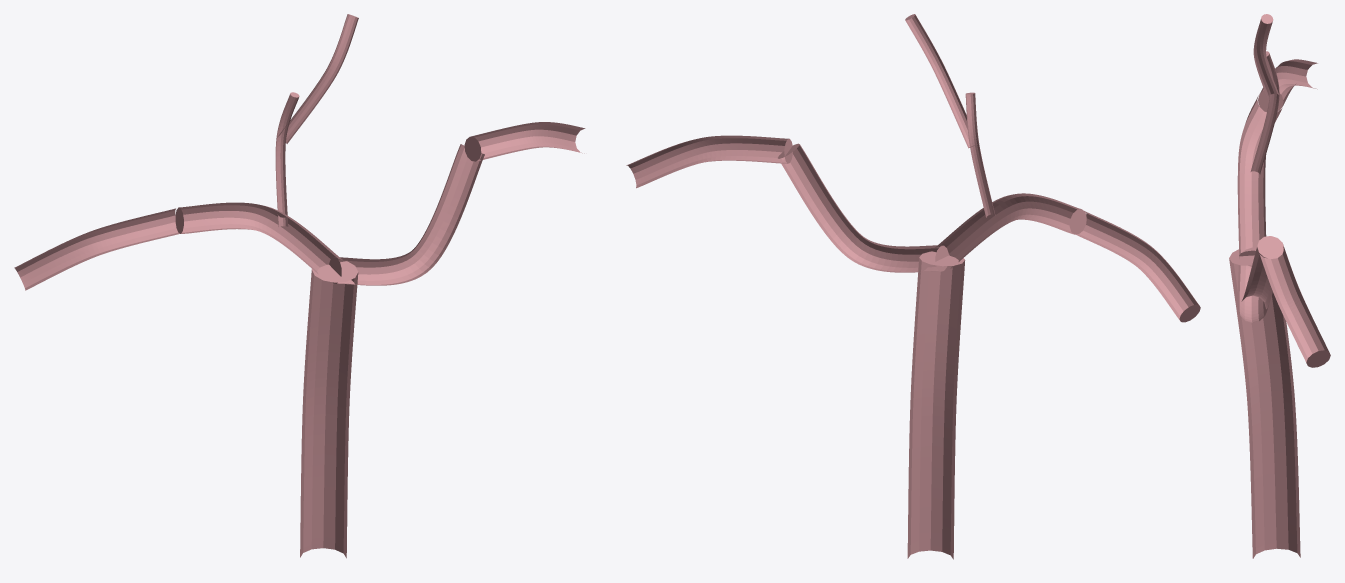
Rendered from basilar_assim.glb.
3 renders of one model, left to right at view 1: azimuth 30°, elevation 25°; view 2: azimuth 150°, elevation 25°; view 3: azimuth 270°, elevation 25°, orthographic. The views are drawn at different scales.
Visible parts, largest first — view 1: Basilar distal, P1 D — fusão assimétrica caudal, P1 E — fusão assimétrica cranial, ACP P2 esquerda, ACP P2 direita, Artéria de Percheron — variante, Talâmoperfurante — exemplo; view 2: Basilar distal, P1 D — fusão assimétrica caudal, ACP P2 direita, P1 E — fusão assimétrica cranial, ACP P2 esquerda, Artéria de Percheron — variante, Talâmoperfurante — exemplo; view 3: Basilar distal, P1 E — fusão assimétrica cranial, ACP P2 direita, P1 D — fusão assimétrica caudal, ACP P2 esquerda, Talâmoperfurante — exemplo, Artéria de Percheron — variante.
Part boxes in pixels (x1,y1,x2,y2): Basilar distal: (300,261,358,558); P1 D — fusão assimétrica caudal: (329,144,484,285); P1 E — fusão assimétrica cranial: (175,202,342,274); ACP P2 esquerda: (14,208,182,290); ACP P2 direita: (464,122,585,161); Artéria de Percheron — variante: (277,14,358,143); Talâmoperfurante — exemplo: (275,92,299,226); Basilar distal: (907,251,965,559); P1 D — fusão assimétrica caudal: (777,143,948,272); ACP P2 direita: (626,135,792,188); P1 E — fusão assimétrica cranial: (935,193,1086,268); ACP P2 esquerda: (1075,211,1200,322); Artéria de Percheron — variante: (905,14,978,148); Talâmoperfurante — exemplo: (965,92,995,217); Basilar distal: (1229,247,1300,558); P1 E — fusão assimétrica cranial: (1237,95,1282,256); ACP P2 direita: (1259,244,1330,367); P1 D — fusão assimétrica caudal: (1237,236,1283,322); ACP P2 esquerda: (1258,59,1317,112); Talâmoperfurante — exemplo: (1250,51,1279,174); Artéria de Percheron — variante: (1253,14,1279,99).
Bounding box in the file's own units: 5.72 × 5.13 × 0.8514.
